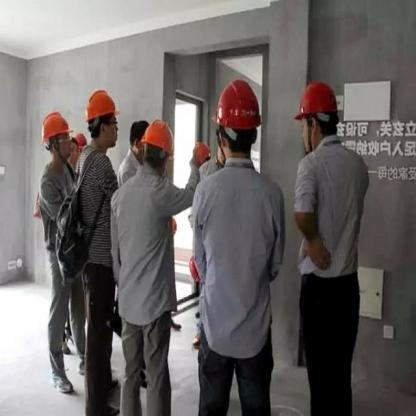red: (209, 73, 267, 138), (290, 77, 345, 123)
